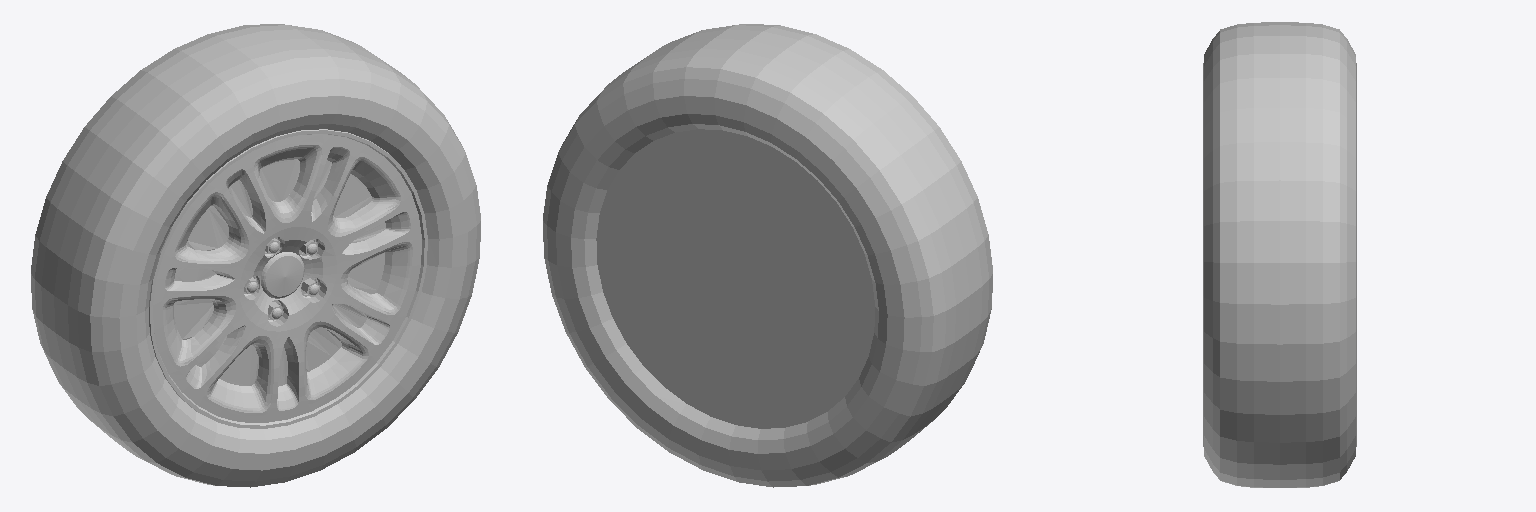
File: wheel 2.obj
3 renders of one model, left to right at view 1: azimuth 30°, elevation 25°; view 2: azimuth 150°, elevation 25°; view 3: azimuth 270°, elevation 25°, orthographic.
Visible parts, largest first — view 1: tire, rim, open, hub, lug1; view 2: tire, inner; view 3: tire.
Part boxes in pixels (x1,y1,x2,y2): tire: (31, 24, 480, 487); rim: (149, 129, 427, 428); open: (174, 159, 385, 386); hub: (261, 252, 304, 298); lug1: (244, 238, 320, 320); tire: (543, 24, 992, 487); inner: (596, 129, 874, 428); tire: (1203, 22, 1356, 487).
Bounding box in the file's own units: 25.45 × 25.42 × 8.44.